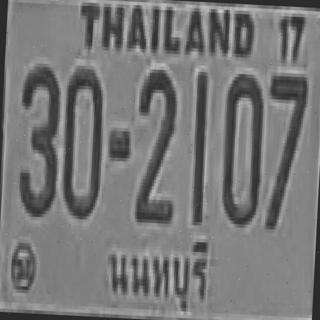N00: (60, 65, 106, 217), (219, 70, 264, 225)
N01: (188, 72, 208, 222)
N02: (134, 67, 178, 222)
N03: (15, 62, 60, 214)
N07: (261, 72, 307, 227)
P37: (102, 222, 212, 318)
